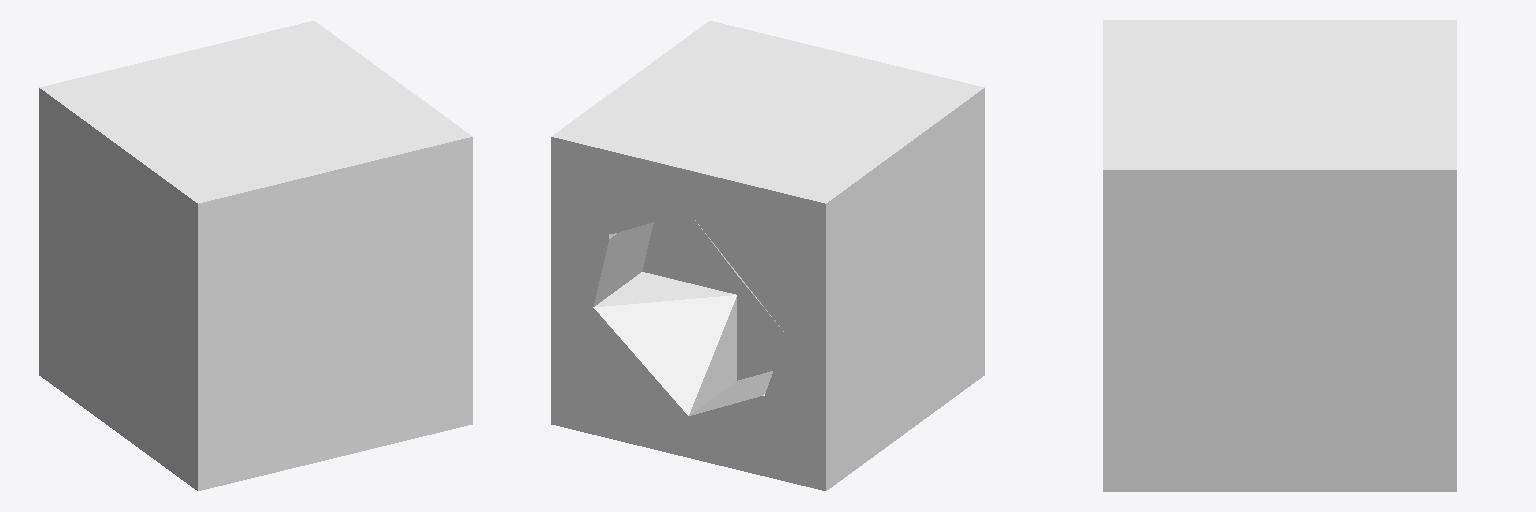
The robot description file, URDF, robot "Circle_cube_bottle_preprocessed_convex":
<?xml version="1.0" ?>
<robot name="Circle_cube_bottle_preprocessed_convex">
  <link name="baseLink">
    <contact>
    	<friction_anchor/>
    	   <lateral_friction value="1.0"/>
    </contact>
    <inertial>
      <origin rpy="0 0 0" xyz="0 0 0"/>
       <!-- mass controls penetration -->
       <mass value=".5"/>
       <inertia ixx="1e-4" ixy="0" ixz="0" iyy="1e-4" iyz="0" izz="1e-4"/>
    </inertial>
    <visual>
      <origin rpy="0 0 0" xyz="0 0 0"/>
      <geometry>
        <mesh filename="Circle_cube_bottle_preprocessed_convex.obj"/>
      </geometry>
       <material name="white">
        <color rgba="1 1 1 1"/>
      </material>
    </visual>
    <collision>
      <origin rpy="0 0 0" xyz="0 0 0"/>
      <geometry>
        <mesh filename="Circle_cube_bottle_preprocessed_convex.obj"/>
      </geometry>
    </collision>
  </link>
</robot>

--- Facts derived from the render (not from the file) ---
The picture shows the robot from 3 angles, left to right: view 1: azimuth 30°, elevation 25°; view 2: azimuth 150°, elevation 25°; view 3: azimuth 270°, elevation 25°; orthographic projection.
Model Circle_cube_bottle_preprocessed_convex with 1 links and 0 joints (none), rooted at baseLink, posed every joint at zero.
Links seen in each view (by area): view 1: baseLink; view 2: baseLink; view 3: baseLink.
Link boxes in pixels (<box>): baseLink: <box>39,21,472,490</box>; baseLink: <box>551,21,984,490</box>; baseLink: <box>1103,20,1456,491</box>.
Size in the robot's own frame: 0.0808 by 0.0808 by 0.0808 metres.
Meshes: 1 distinct files referenced, 1 mesh visuals loaded (1 OBJ).